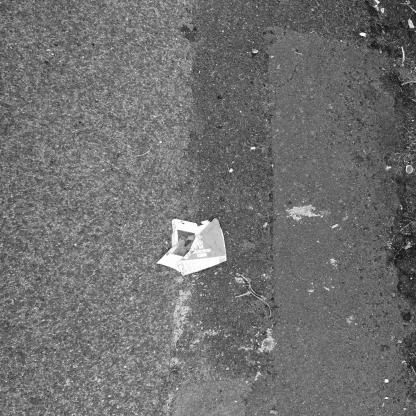plastic: (158, 213, 230, 273)
